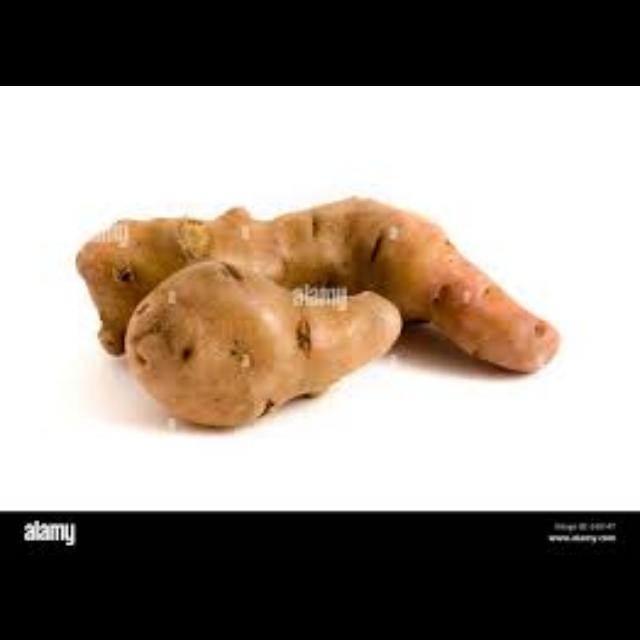Damaged potato: (88, 170, 574, 384), (134, 260, 398, 446)
